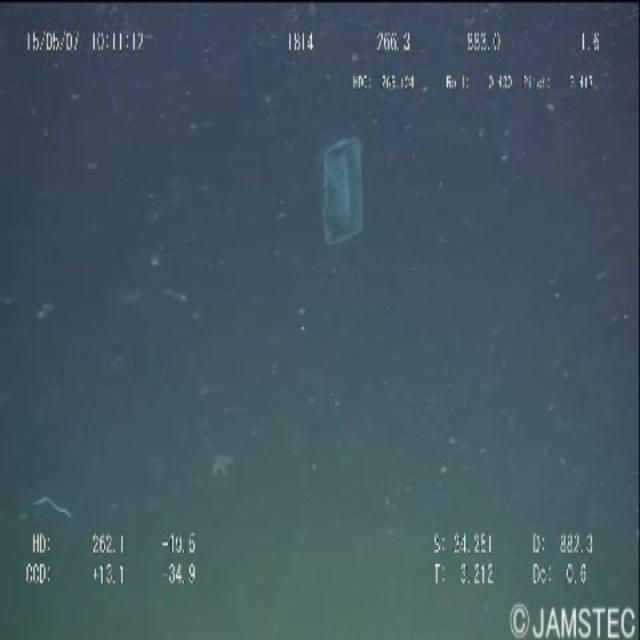Cutlery: (307, 123, 380, 267)
